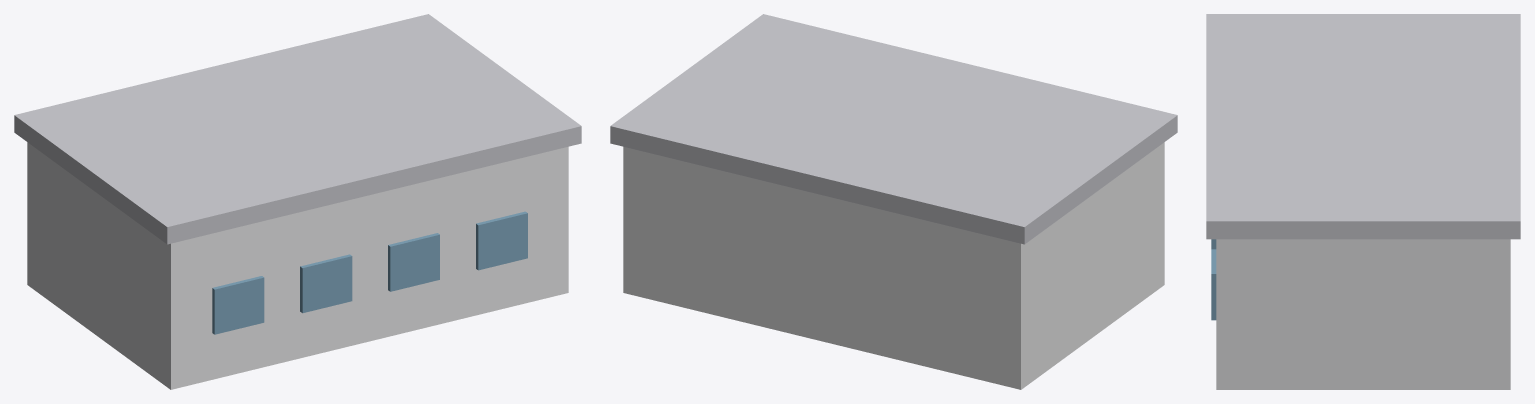
The model's file is galpao.glb.
3 renders of one model, left to right at view 1: azimuth 30°, elevation 25°; view 2: azimuth 150°, elevation 25°; view 3: azimuth 270°, elevation 25°, orthographic. The views are drawn at different scales.
Bounding box in the file's own units: 25 × 9.7 × 16.
